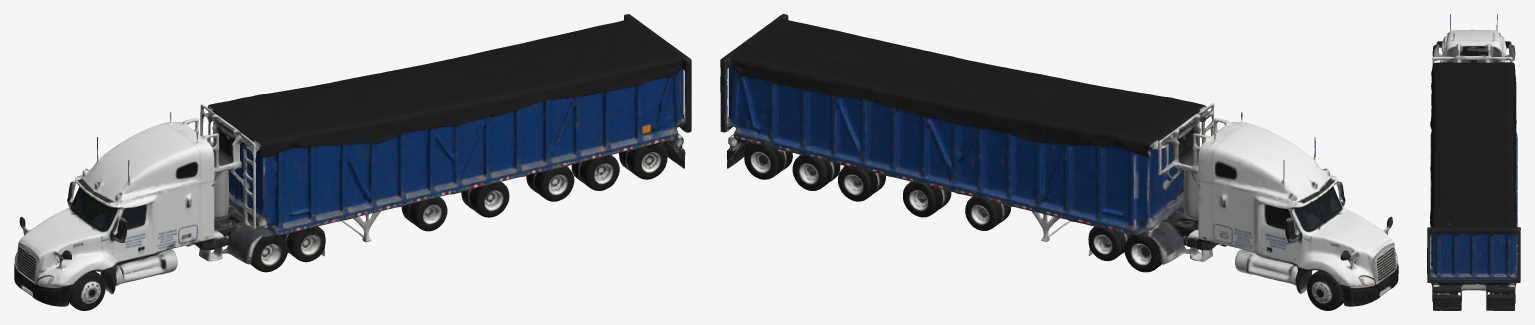
The model's file is Meshy_AI_Industrial_Haulage_0916122054_texture.glb.
3 renders of one model, left to right at view 1: azimuth 30°, elevation 25°; view 2: azimuth 150°, elevation 25°; view 3: azimuth 270°, elevation 25°, orthographic. The views are drawn at different scales.
Bounding box in the file's own units: 1.9 × 0.4169 × 0.3257.
1 material, 1 textured.
